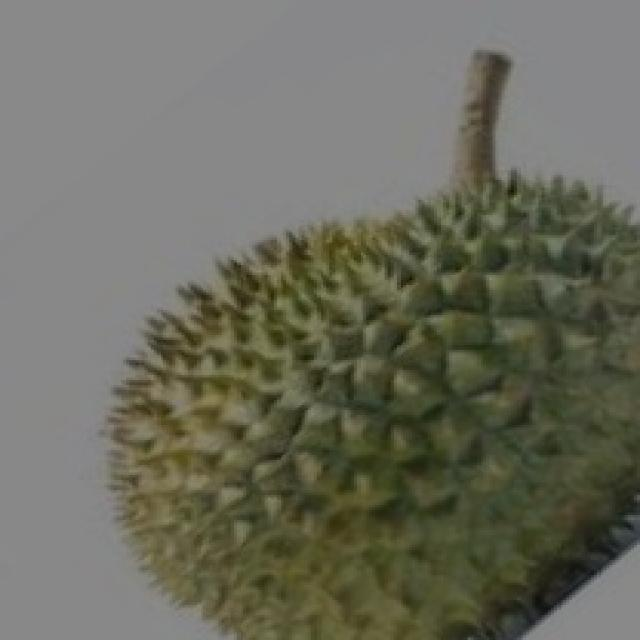fruit: (243, 210, 640, 638), (55, 247, 396, 640)
